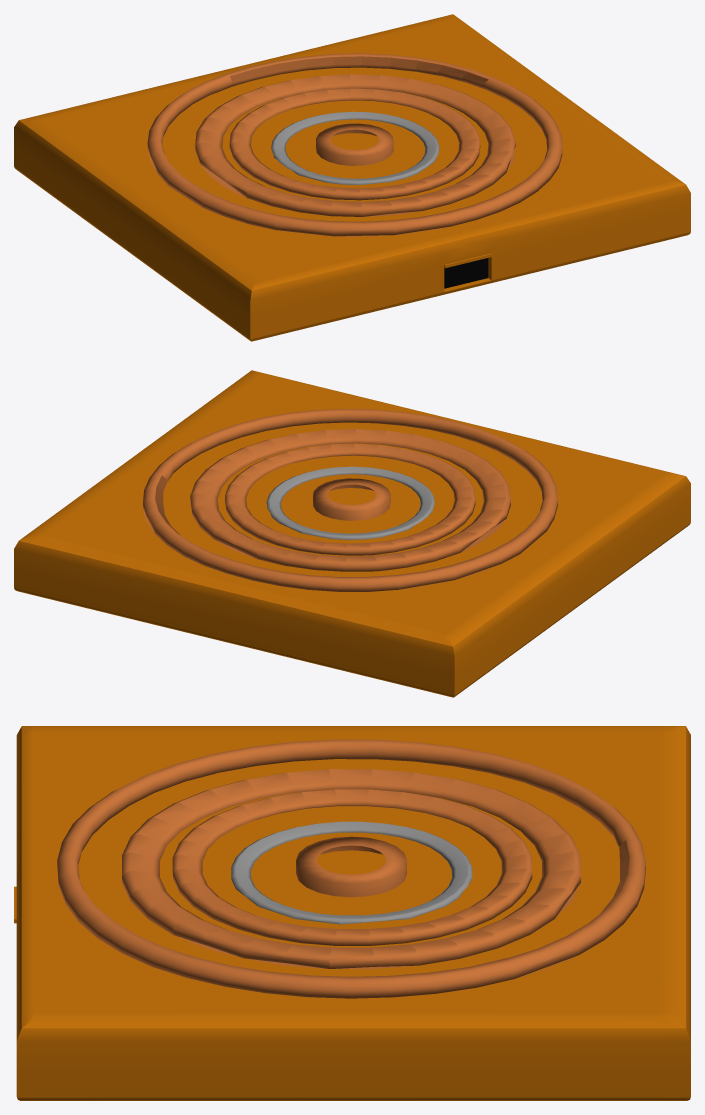
Rendered from Traficono_002.fbx.
3 renders of one model, top to bottom at view 1: azimuth 30°, elevation 25°; view 2: azimuth 150°, elevation 25°; view 3: azimuth 270°, elevation 25°, orthographic. The views are drawn at different scales.
Visible parts, largest first — view 1: Traficono; view 2: Traficono; view 3: Traficono.
Part boxes in pixels (x1,y1,x2,y2): Traficono: (14,14,690,341); Traficono: (14,370,690,697); Traficono: (14,726,690,1100).
Size of the model in its own units: 1.23 by 0.1715 by 1.15.
